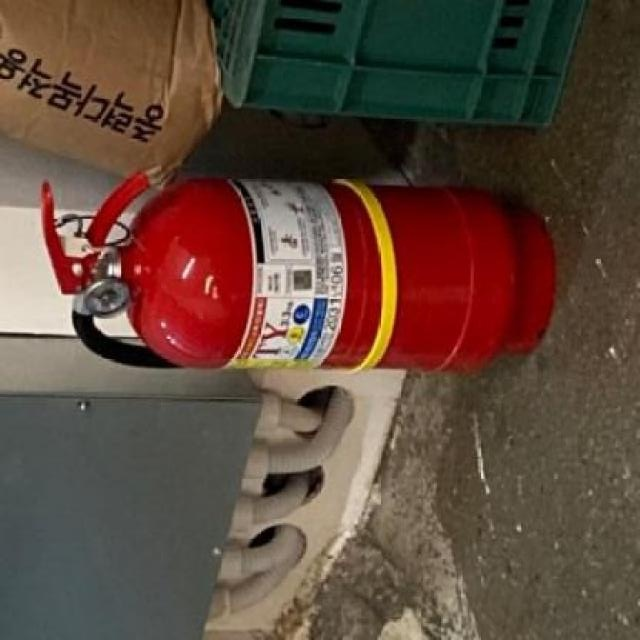fire extinguisher: (40, 171, 555, 375)
